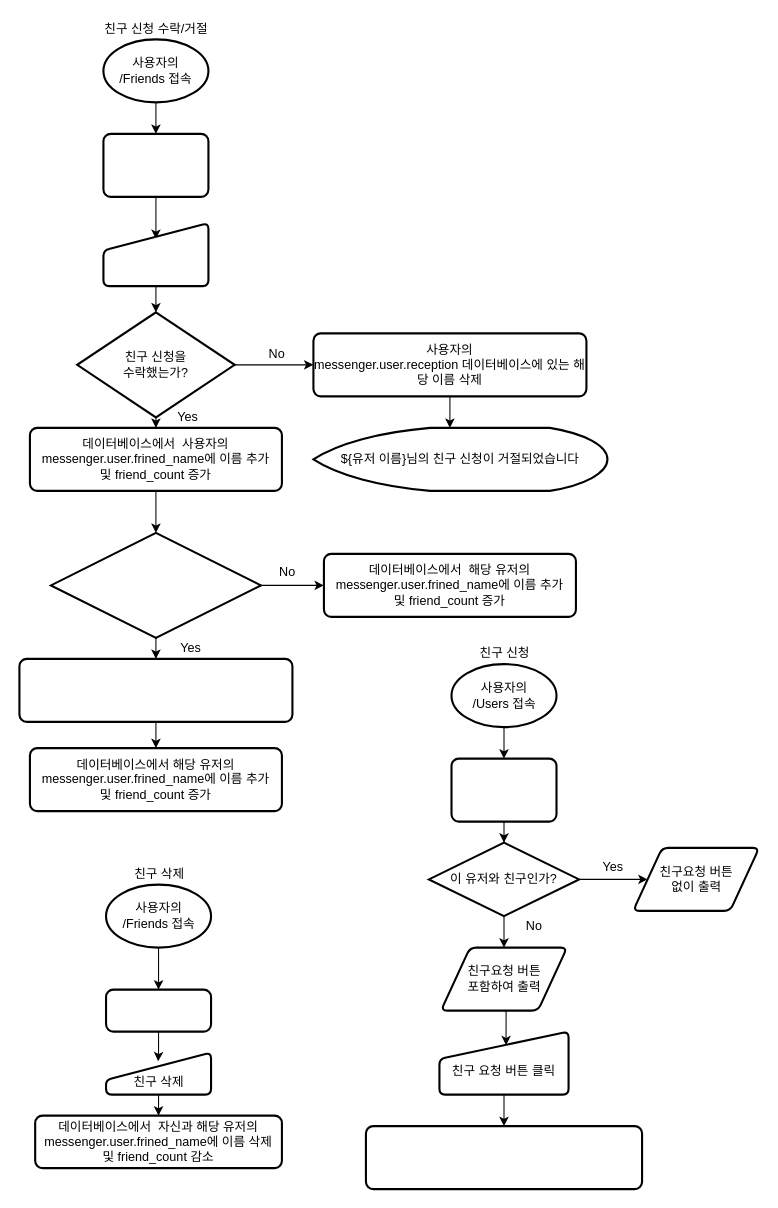
The diagram is 778 pixels wide and 1208 high, and some of its shapes have lost their labels. The shapes that lost their labels are listed below. From the top down, each one's centre as x and y in pixels, then its label:
point (155, 164): 서버로부터 친구신청 수신 목록 조회
point (155, 254): 친구 신청에 대한 응답 입력
point (155, 584): 해당 유저의 reception에 내 이름이 있는가?
point (155, 689): 데이터베이스에서 해당 유저의 messenger.user.reception 데이터베이스에 있는 내 이름 삭제
point (503, 789): 서버로부터 유저 목록 조회
point (158, 1010): 서버로부터 친구 목록 조회
point (503, 1157): 해당 유저의 messenger.user.reception 데이터베이스에 사용자 이름 추가
